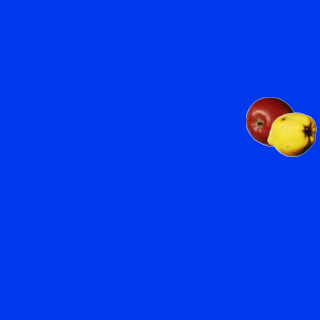Apple Braeburn: (245, 96, 295, 146)
Quince: (266, 109, 316, 159)
